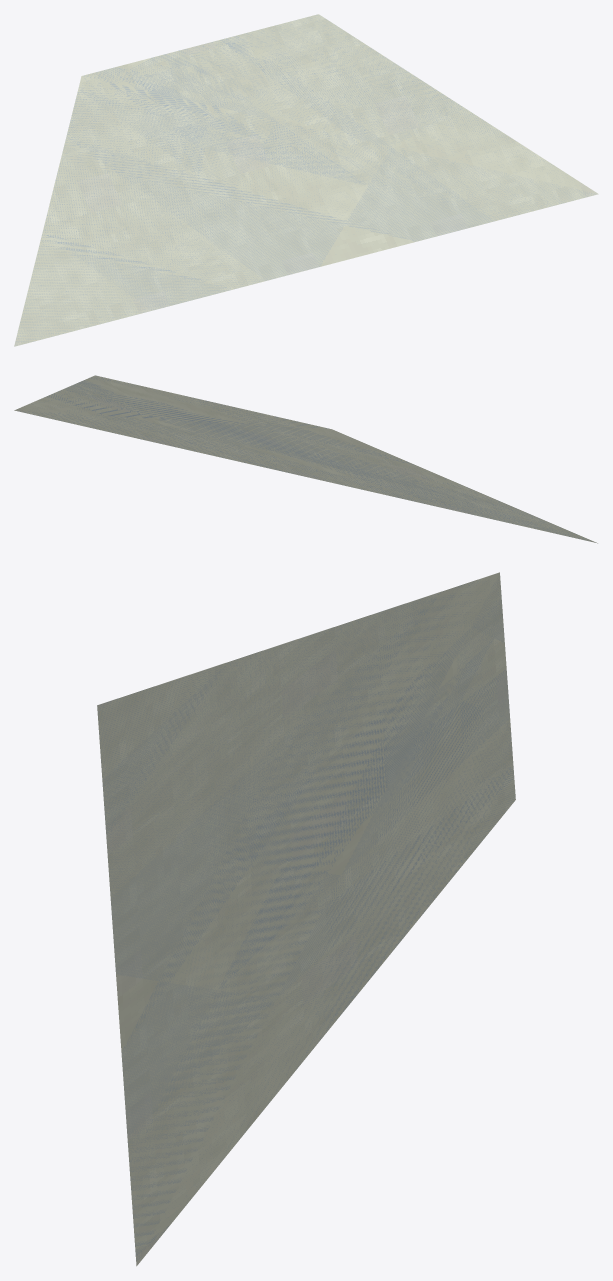
The model's file is 人民英雄纪念碑178.dae.
3 views of the same model, one above another, from view 1: azimuth 30°, elevation 25°; view 2: azimuth 150°, elevation 25°; view 3: azimuth 270°, elevation 25° (orthographic). The views are drawn at different scales.
Parts seen in each view (by area): view 1: SketchUp; view 2: SketchUp; view 3: SketchUp.
Boxes of the visible parts, box(x1,y1,x2,y2) form: SketchUp: box(14, 14, 598, 346); SketchUp: box(14, 375, 597, 543); SketchUp: box(97, 572, 515, 1266).
Size of the model in its own units: 309 by 97.55 by 75.82.
